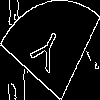Y: (25, 24, 64, 81)
